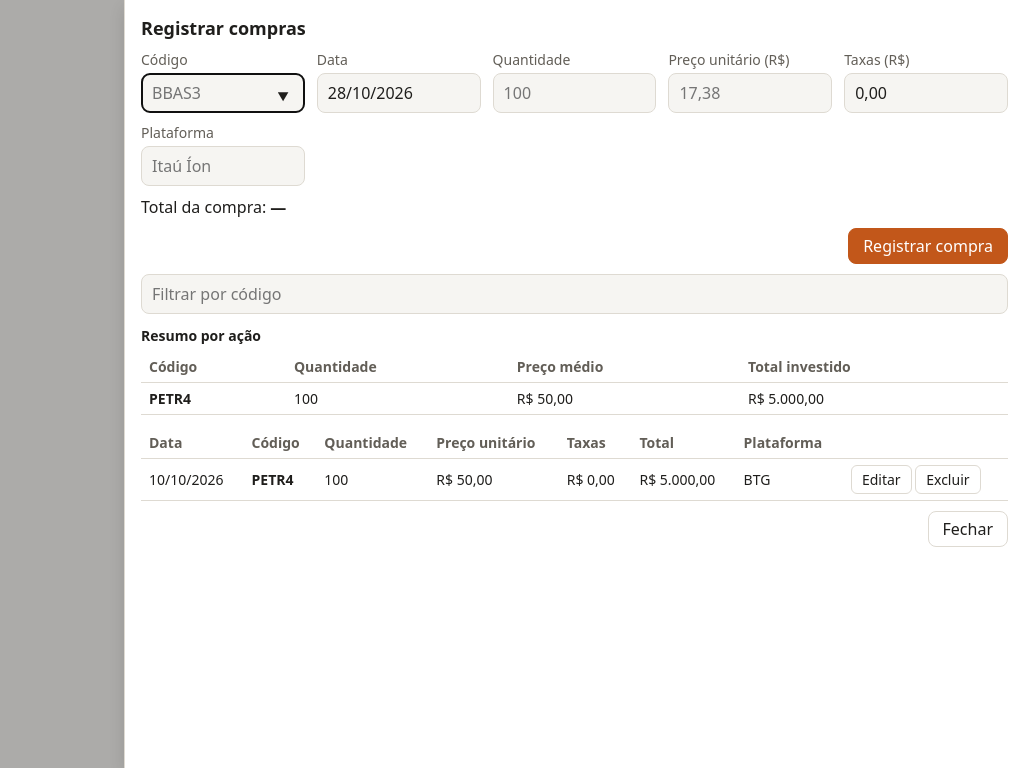
Scenario: RegistroCompras › falha ao excluir mostra o motivo na linha e mantém a compra
This screenshot has width=1024, height=768.
Check: the table named "Compras registradas" is shown, box [141,427,1008,501]
Click the button with aria-label "Excluir a compra" at point(948, 480), box [915,465,980,494]
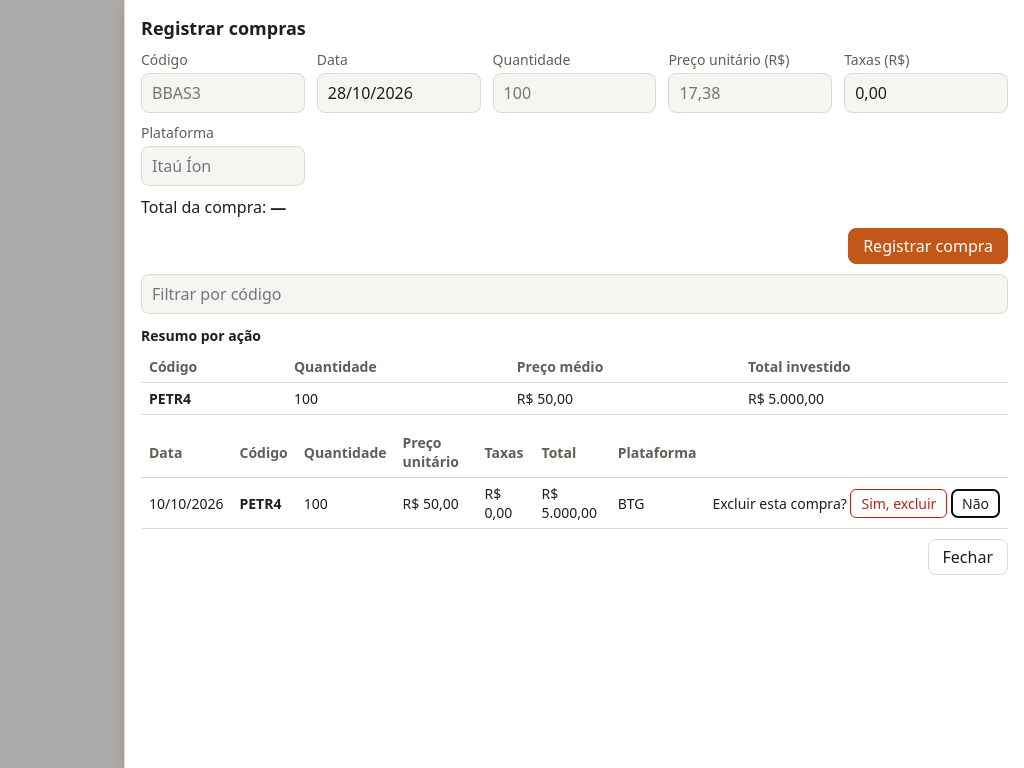
Click the button "Sim, excluir" at point(899, 503), box [850,488,947,518]
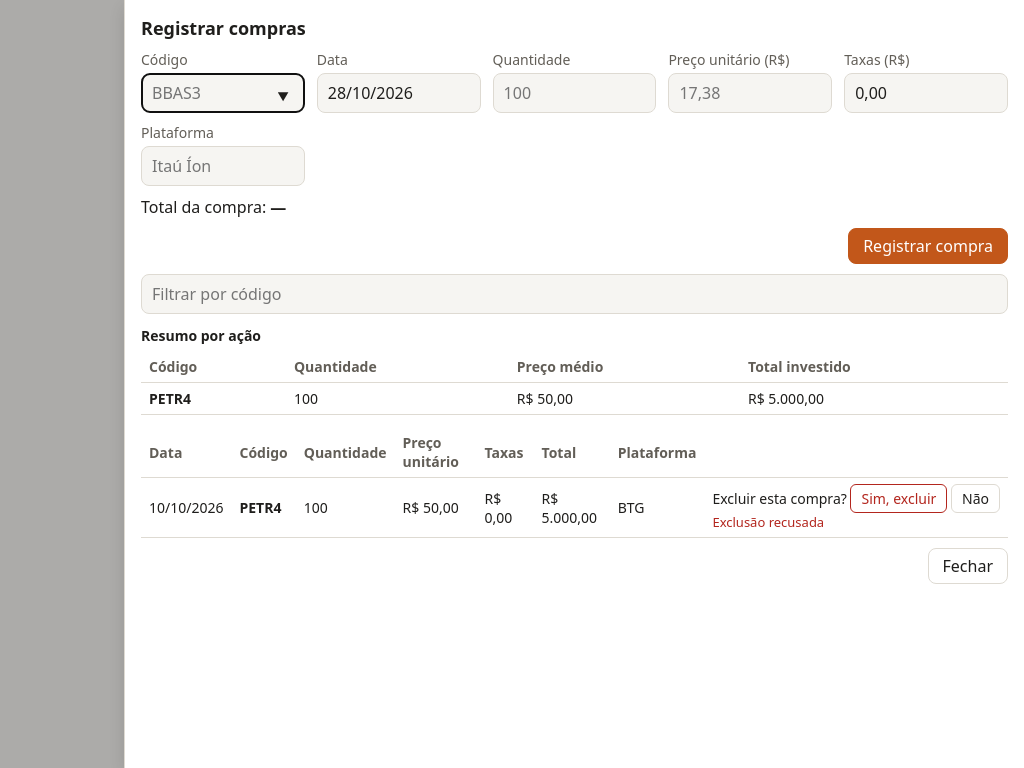
Check: the message reads "Exclusão recusada", box [712,513,824,531]
